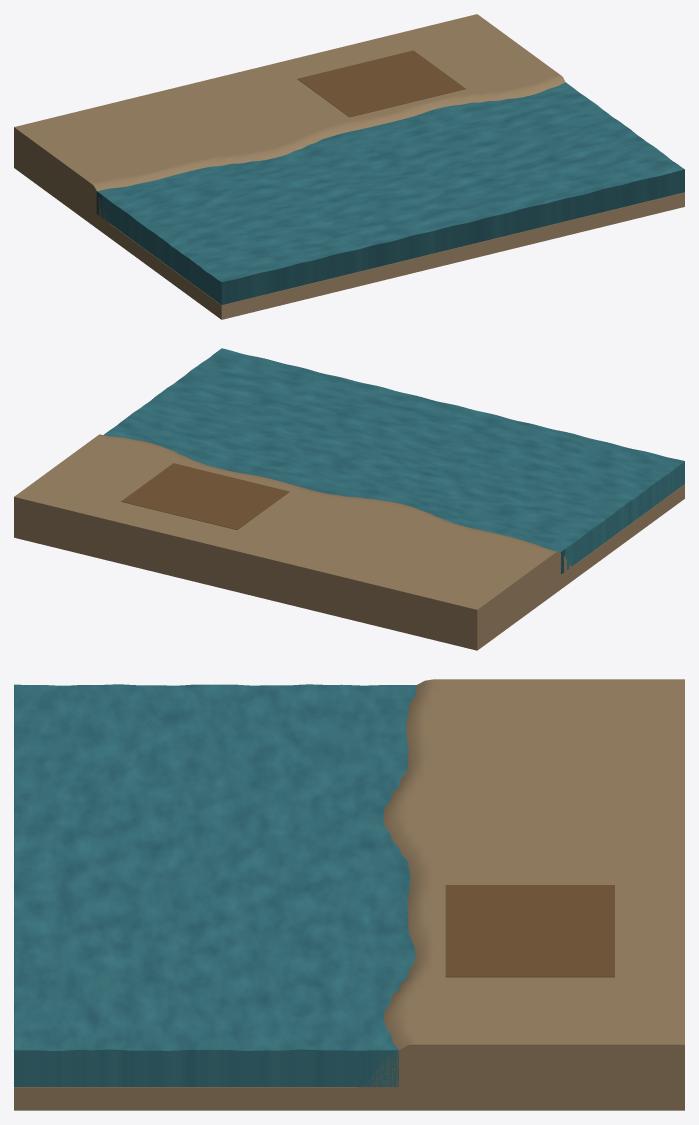
The model's file is RA6_Entorno.fbx.
3 views of the same model, one above another, from view 1: azimuth 30°, elevation 25°; view 2: azimuth 150°, elevation 25°; view 3: azimuth 270°, elevation 25° (orthographic). The views are drawn at different scales.
Visible parts, largest first — view 1: SM_Agua_RioLaguna, SM_Terreno_Orilla_Lecho, SM_ParcelaCanawa; view 2: SM_Agua_RioLaguna, SM_Terreno_Orilla_Lecho, SM_ParcelaCanawa; view 3: SM_Agua_RioLaguna, SM_Terreno_Orilla_Lecho, SM_ParcelaCanawa.
Boxes of the visible parts, box(x1,y1,x2,y2) form: SM_Agua_RioLaguna: box(96, 82, 684, 304); SM_Terreno_Orilla_Lecho: box(14, 14, 684, 319); SM_ParcelaCanawa: box(297, 50, 465, 117); SM_Agua_RioLaguna: box(104, 348, 684, 574); SM_Terreno_Orilla_Lecho: box(14, 434, 684, 650); SM_ParcelaCanawa: box(121, 463, 289, 529); SM_Agua_RioLaguna: box(14, 684, 416, 1086); SM_Terreno_Orilla_Lecho: box(14, 679, 684, 1110); SM_ParcelaCanawa: box(445, 885, 614, 977).
Bounding box in the file's own units: 7.6 × 0.6454 × 5.9.
